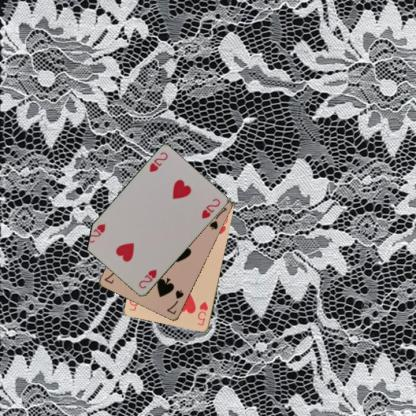2h: (136, 267, 158, 290), (147, 150, 169, 173)
5h: (195, 299, 209, 327)
7s: (164, 288, 185, 316)
